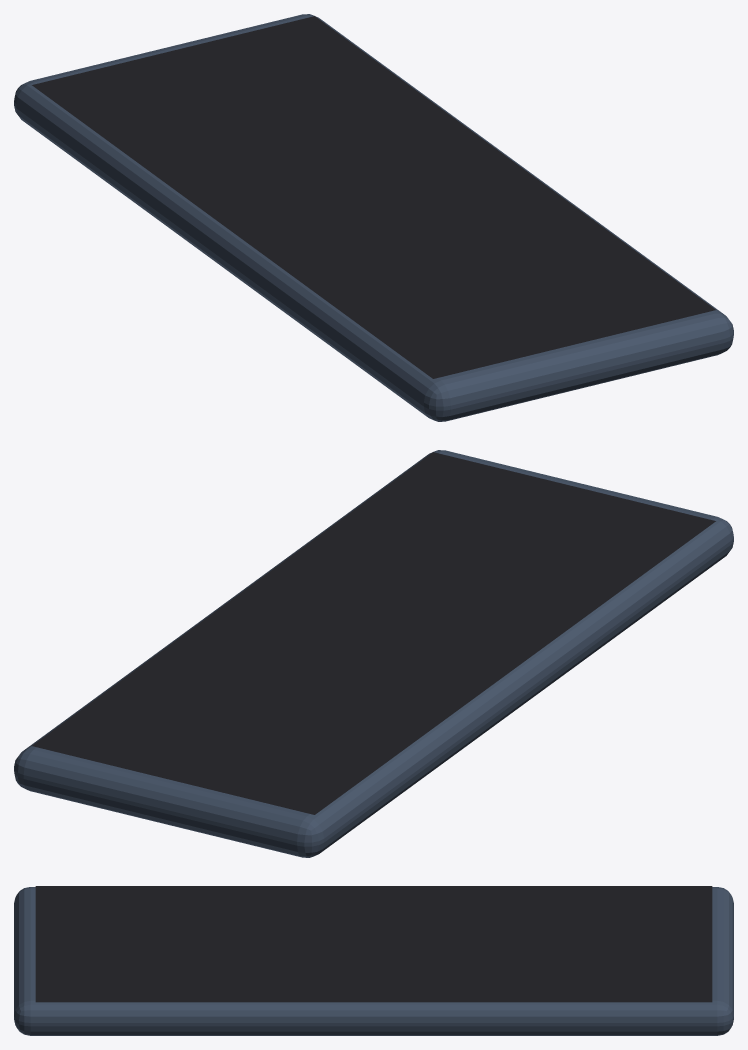
File: Phone_224.glb
3 renders of one model, top to bottom at view 1: azimuth 30°, elevation 25°; view 2: azimuth 150°, elevation 25°; view 3: azimuth 270°, elevation 25°, orthographic. The views are drawn at different scales.
Visible parts, largest first — view 1: Phone_Screen, Phone_Body; view 2: Phone_Screen, Phone_Body; view 3: Phone_Screen, Phone_Body.
Boxes of the visible parts, <box> form: Phone_Screen: <box>32,16,715,378</box>; Phone_Body: <box>14,14,733,421</box>; Phone_Screen: <box>32,452,715,814</box>; Phone_Body: <box>14,450,733,857</box>; Phone_Screen: <box>35,886,712,1002</box>; Phone_Body: <box>14,887,733,1035</box>.
Size of the model in its own units: 0.0702 by 0.0088 by 0.1688.
